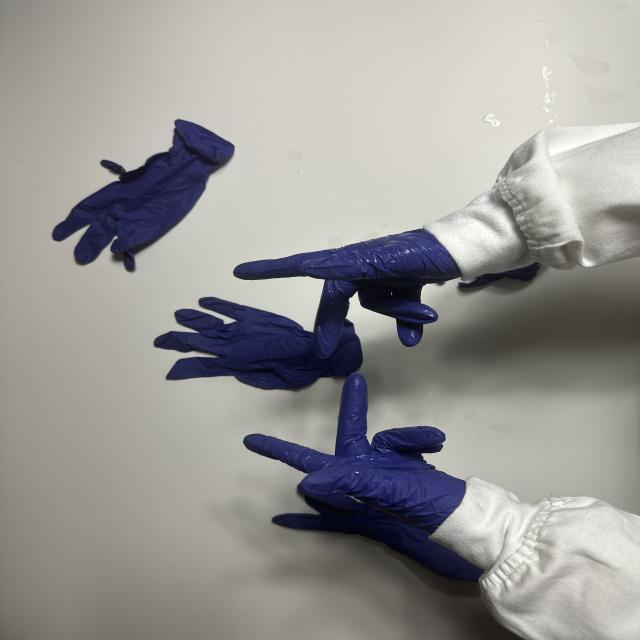gloves_contaminated: (244, 373, 466, 533), (234, 228, 461, 357)
